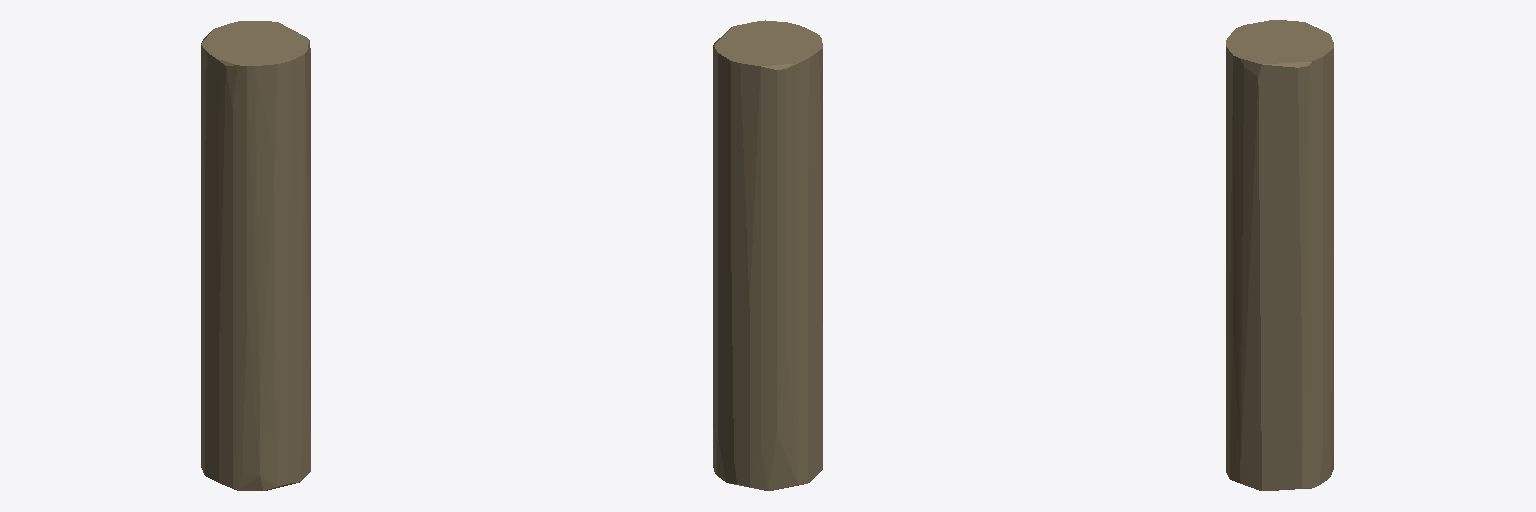
robot.urdf — cylinder_long:
<?xml version="1.0"?>
<robot name="cylinder_long">
  <link name="base_link">
    <visual>
      <origin xyz="0 0 0" rpy="0 0 0" />
      <geometry>
        <mesh filename="cylinder_long_decimated.obj" />      
      </geometry>
      <material name="tan">
        <color rgba="0.55 0.5 0.4 1" />
      </material>
    </visual>
    <collision>
      <origin xyz="0 0 0" rpy="0 0 0" />
      <geometry>
        <mesh filename="cylinder_long_decimated.obj" />
      </geometry>
    </collision>
  </link>
</robot>

--- Facts derived from the render (not from the file) ---
The picture shows the robot from 3 angles, left to right: view 1: azimuth 30°, elevation 25°; view 2: azimuth 150°, elevation 25°; view 3: azimuth 270°, elevation 25°; orthographic projection.
Model cylinder_long with 1 links and 0 joints (none), rooted at base_link, posed every joint at zero.
Visible links, largest first — view 1: base_link; view 2: base_link; view 3: base_link.
Boxes of the visible links, left/top/right/bottom form: base_link: left=201, top=21, right=310, bottom=490; base_link: left=713, top=20, right=822, bottom=490; base_link: left=1226, top=20, right=1333, bottom=490.
Size in the robot's own frame: 14.13 by 14.61 by 63.81 metres.
1 mesh visuals loaded from 1 distinct referenced files (1 OBJ).
